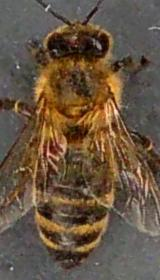varroa_mite: (32, 136, 72, 157)
